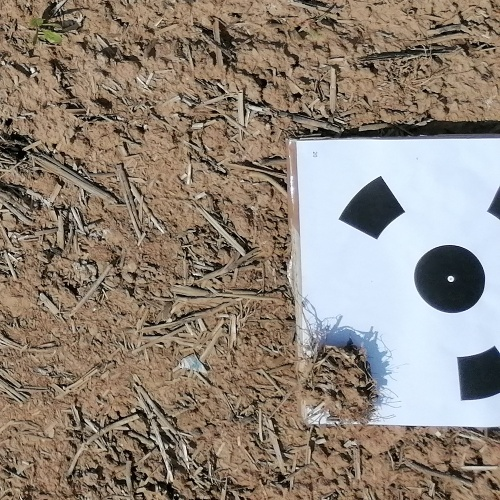beet: (26, 14, 61, 47)
